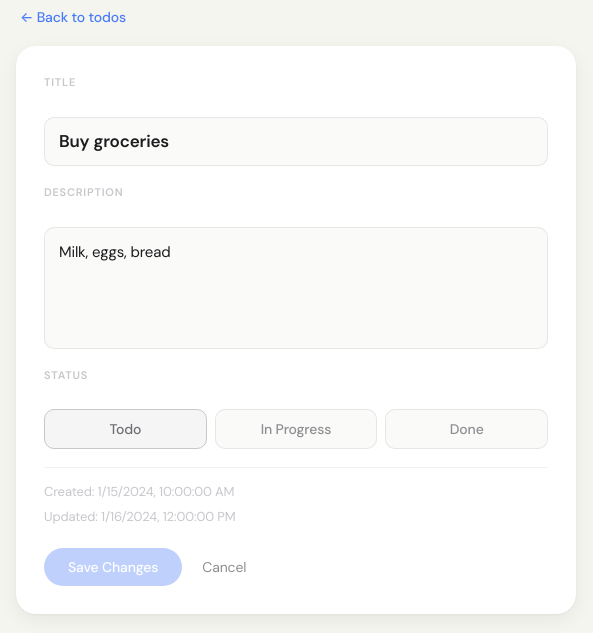
Test: TodoDetailPage › shows "Saved!" after a successful save
Replace the text in the field showing "Buy groceries" with "Updated" at (296, 141), box x1=44 y1=116 x2=548 y2=166
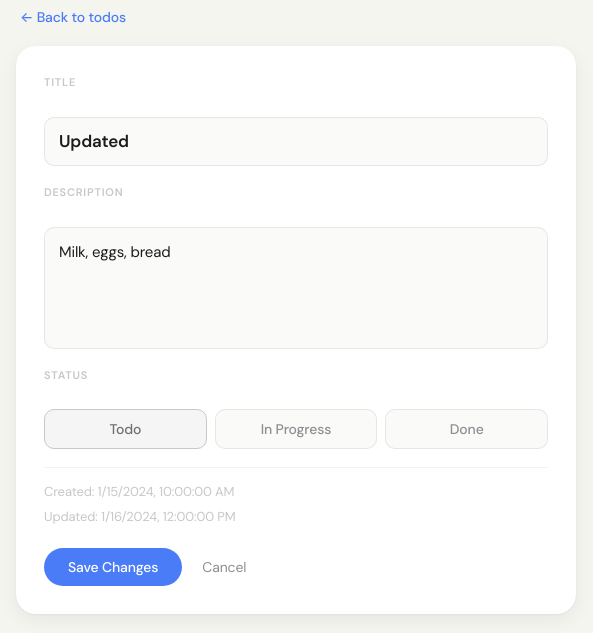
Click the button "Save Changes" at (113, 567), box x1=44 y1=548 x2=182 y2=586
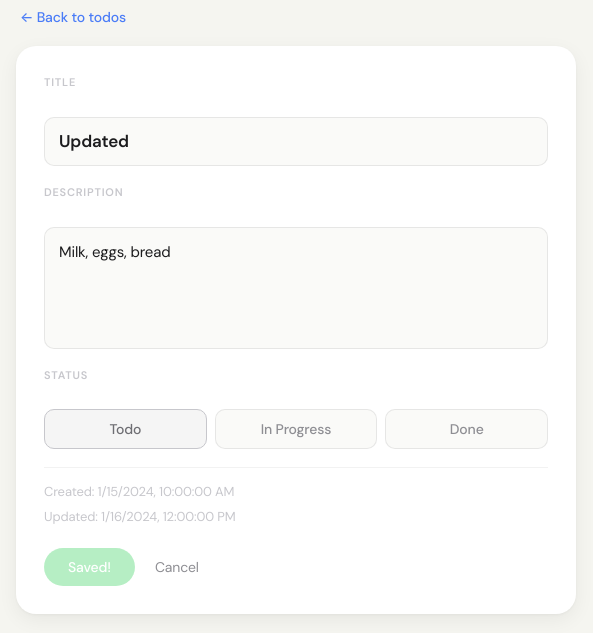
Now the button "Saved!" is shown, box x1=44 y1=548 x2=135 y2=586
